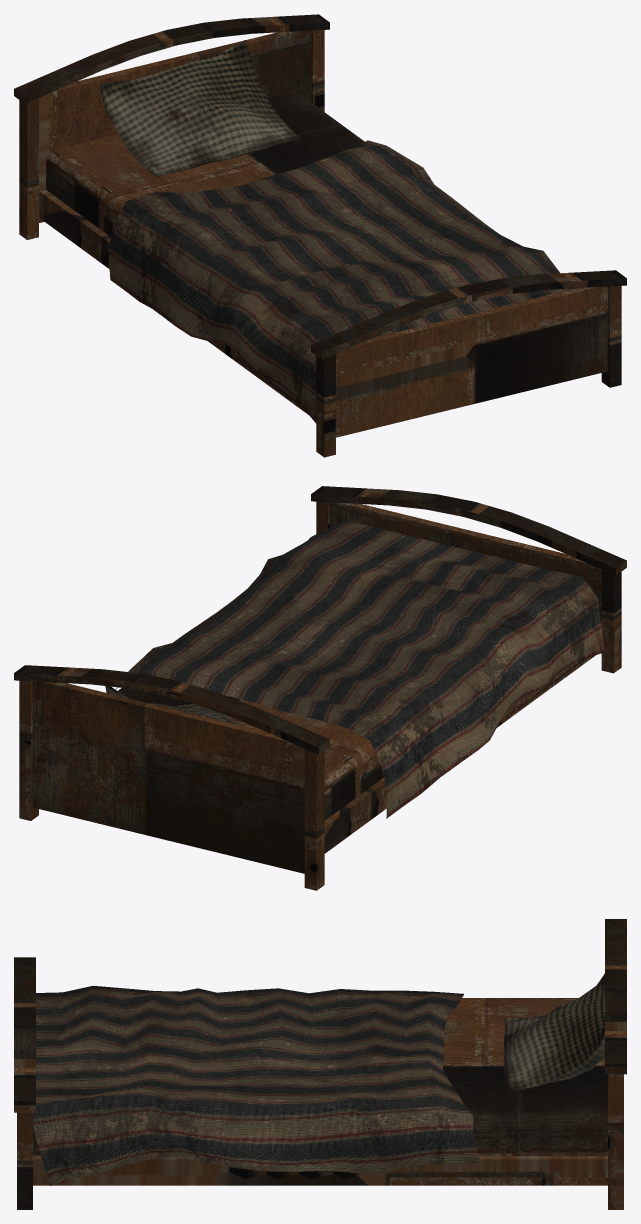
File: bed.glb
3 renders of one model, top to bottom at view 1: azimuth 30°, elevation 25°; view 2: azimuth 150°, elevation 25°; view 3: azimuth 270°, elevation 25°, orthographic.
Parts seen in each view (by area): view 1: Bed, Blanket, Pillow; view 2: Blanket, Bed, Pillow; view 3: Blanket, Bed, Pillow.
Boxes of the visible parts, x1,y1,x2,y2 form: Bed: (14,14,626,457); Blanket: (108,140,574,423); Pillow: (99,40,300,176); Blanket: (115,520,604,818); Bed: (14,486,626,890); Pillow: (105,686,242,725); Blanket: (33,985,480,1185); Bed: (14,919,626,1209); Pillow: (504,973,604,1091).
Bounding box in the file's own units: 117 × 61.21 × 205.
Materials: 2 (2 with a texture image).
